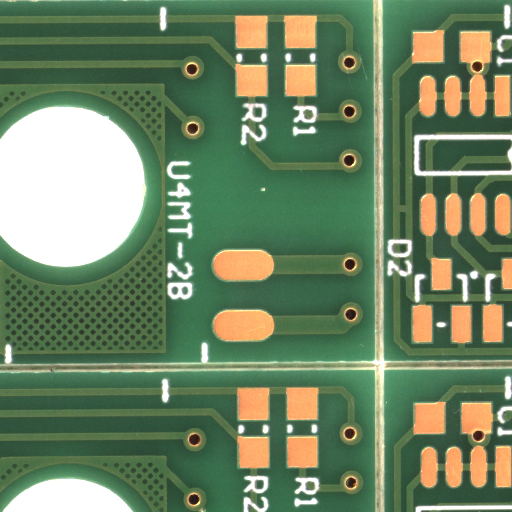Short: (402, 209, 416, 223)
